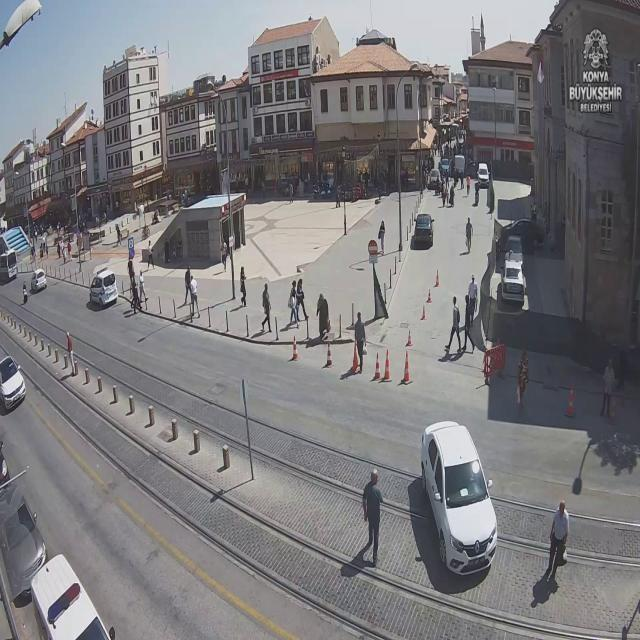Car: (421, 423, 498, 572), (30, 555, 115, 640), (2, 492, 47, 602), (500, 241, 526, 304), (0, 354, 27, 412), (499, 218, 544, 251), (89, 268, 119, 308), (412, 214, 434, 248), (278, 177, 299, 196), (30, 269, 47, 292), (477, 163, 490, 185), (428, 168, 441, 190), (454, 155, 466, 175), (439, 158, 452, 176)
Van: (0, 250, 17, 281)
